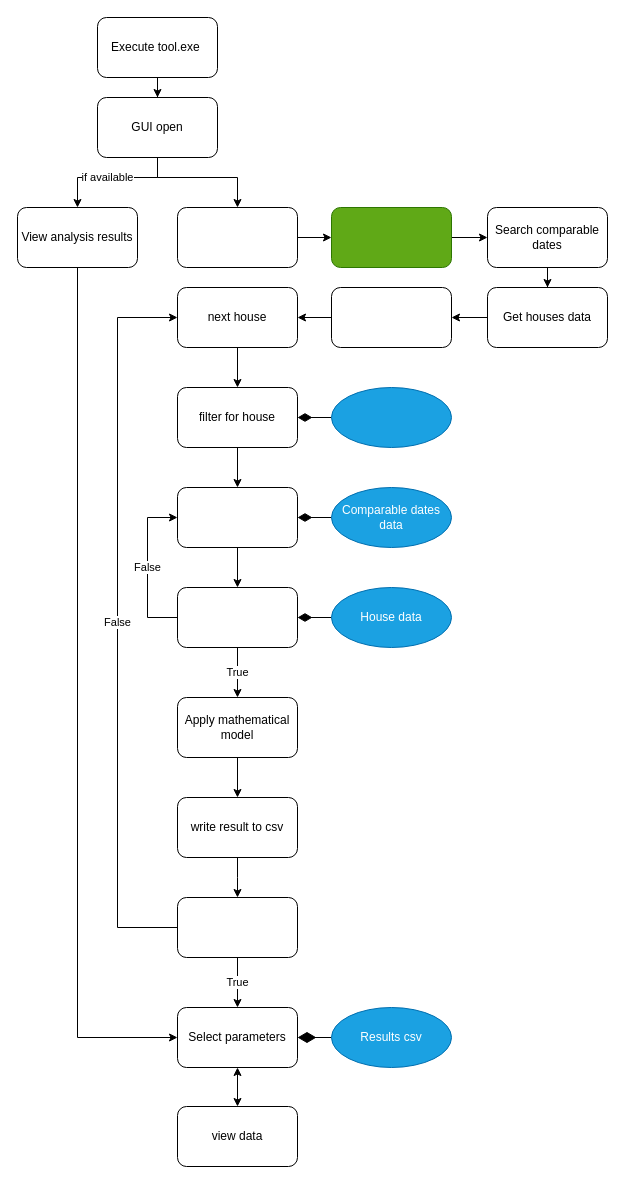
Image size: 625x1184. Some labels were removed from this diagram. Each missing label, with the centre of its shape:
"Get KNMI data" belongs at point (391, 237).
"Houses data" belongs at point (391, 417).
"If date in house data" belongs at point (237, 617).
"If last house" belongs at point (237, 927).
"New analysis" belongs at point (237, 237).
"next date" belongs at point (237, 517).
"start analysis" belongs at point (391, 317).
